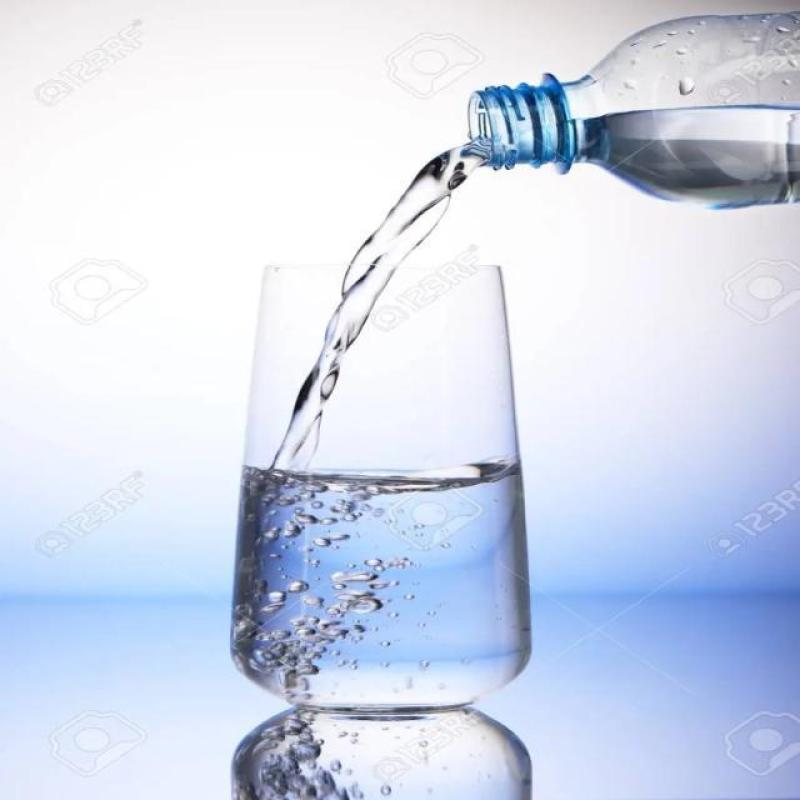botella: (460, 11, 800, 210)
